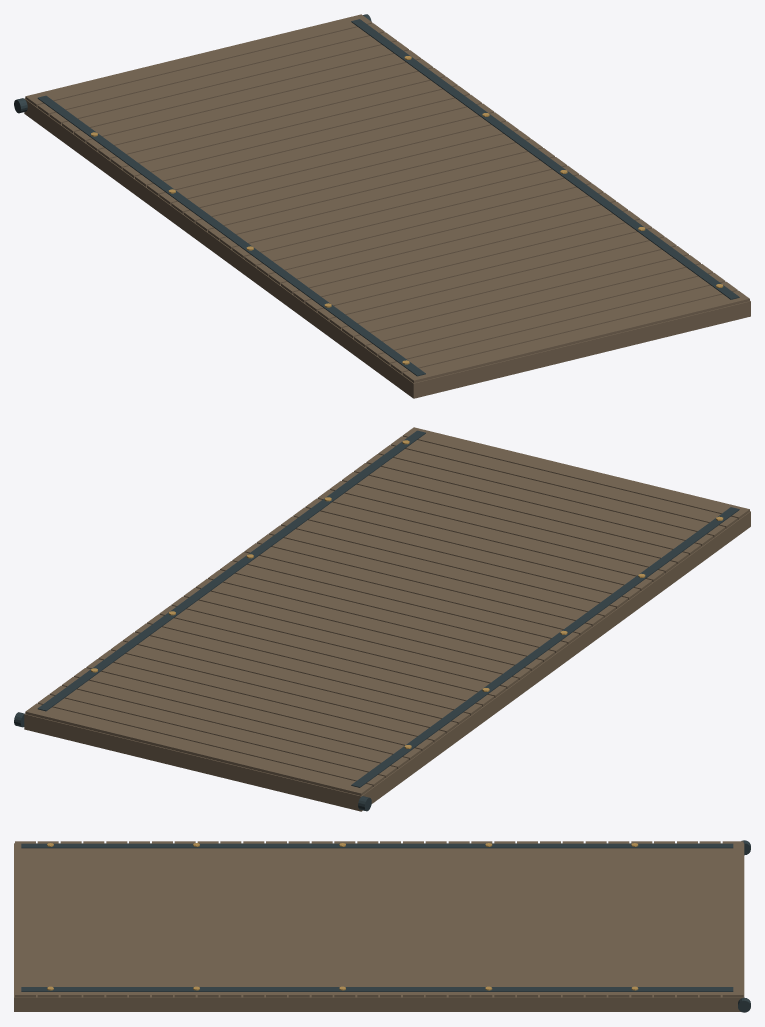
The model's file is drawbridge.glb.
3 views of the same model, one above another, from view 1: azimuth 30°, elevation 25°; view 2: azimuth 150°, elevation 25°; view 3: azimuth 270°, elevation 25° (orthographic). The views are drawn at different scales.
Parts seen in each view (by area): view 1: NC.Export.Bridge.BridgeTimber, NC.Export.Bridge.DarkIron; view 2: NC.Export.Bridge.BridgeTimber, NC.Export.Bridge.DarkIron; view 3: NC.Export.Bridge.BridgeTimber, NC.Export.Bridge.DarkIron.
Part boxes in pixels (<box>): NC.Export.Bridge.BridgeTimber: <box>24,14,750,398</box>; NC.Export.Bridge.DarkIron: <box>14,14,739,376</box>; NC.Export.Bridge.BridgeTimber: <box>24,427,750,811</box>; NC.Export.Bridge.DarkIron: <box>14,430,739,811</box>; NC.Export.Bridge.BridgeTimber: <box>14,841,744,1011</box>; NC.Export.Bridge.DarkIron: <box>21,840,750,1012</box>.
Size of the model in its own units: 10.4 by 0.6446 by 20.18.
